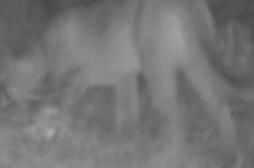Mountain Lion: (4, 6, 251, 164)
